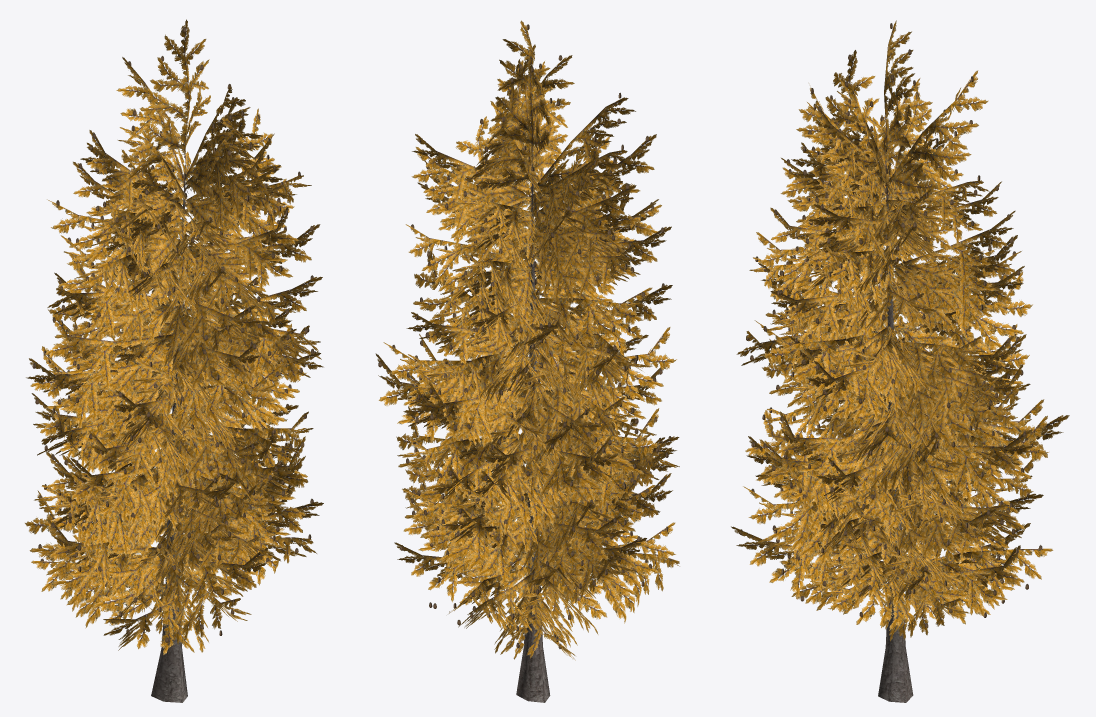
The model's file is Larix_Decidua_Autumn_Adult.glb.
The picture shows the model from 3 angles, left to right: view 1: azimuth 30°, elevation 25°; view 2: azimuth 150°, elevation 25°; view 3: azimuth 270°, elevation 25°; orthographic projection.
Visible parts, largest first — view 1: Larix_Decidua_Autumn_Adult__LOD3; view 2: Larix_Decidua_Autumn_Adult__LOD3; view 3: Larix_Decidua_Autumn_Adult__LOD3.
Part boxes in pixels (bbox=[...]): Larix_Decidua_Autumn_Adult__LOD3: bbox=[25, 19, 323, 702]; Larix_Decidua_Autumn_Adult__LOD3: bbox=[375, 20, 679, 702]; Larix_Decidua_Autumn_Adult__LOD3: bbox=[731, 20, 1069, 702].
Bounding box in the file's own units: 8.23 × 18.84 × 9.03.
Materials: 3 (3 with a texture image).
